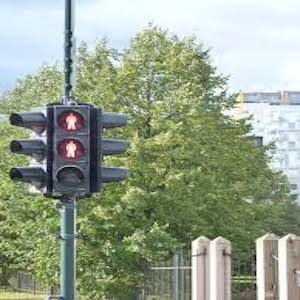red: (63, 113, 81, 133), (62, 139, 79, 158)
